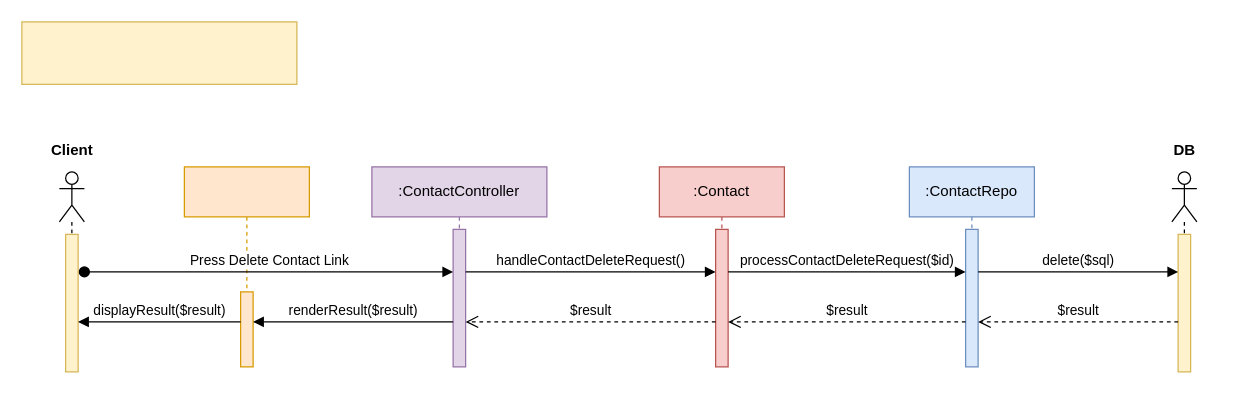
Some shapes in this 1256 by 394 pixel diagram are drawn without their labels. Each missing label, with the centre of its shape:
:ContactView: (246,262)
Delete Contact: (159,52)
